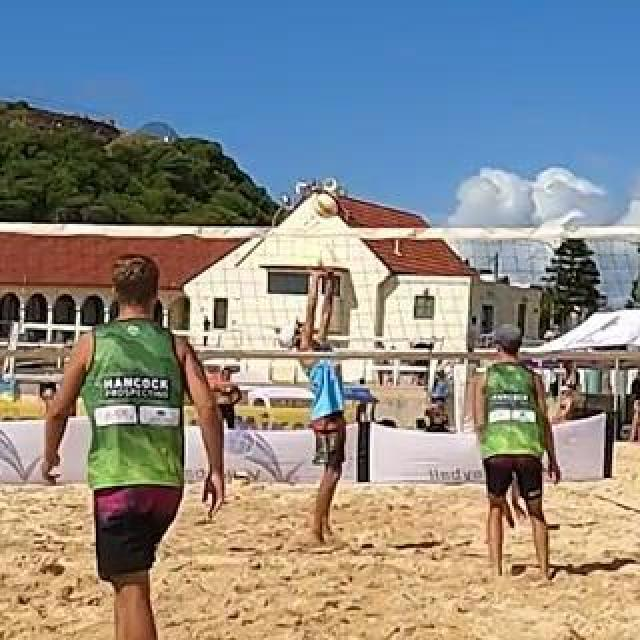volleyball: (312, 190, 338, 216)
